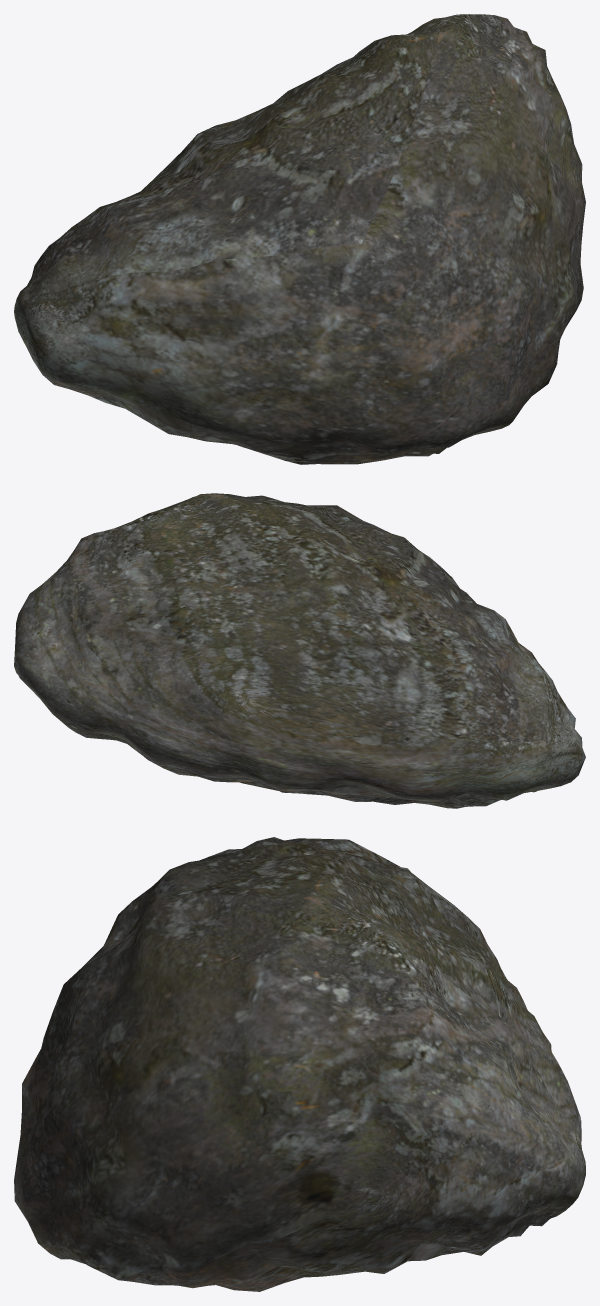
Rendered from L_Rock_2.fbx.
The picture shows the model from 3 angles, top to bottom: view 1: azimuth 30°, elevation 25°; view 2: azimuth 150°, elevation 25°; view 3: azimuth 270°, elevation 25°; orthographic projection. The views are drawn at different scales.
Visible parts, largest first — view 1: Cube; view 2: Cube; view 3: Cube.
Boxes of the visible parts, x1,y1,x2,y2 form: Cube: [14, 14, 585, 464]; Cube: [14, 493, 585, 808]; Cube: [14, 837, 585, 1291].
Bounding box in the file's own units: 1290 × 732 × 890.
1 material, 1 textured.
